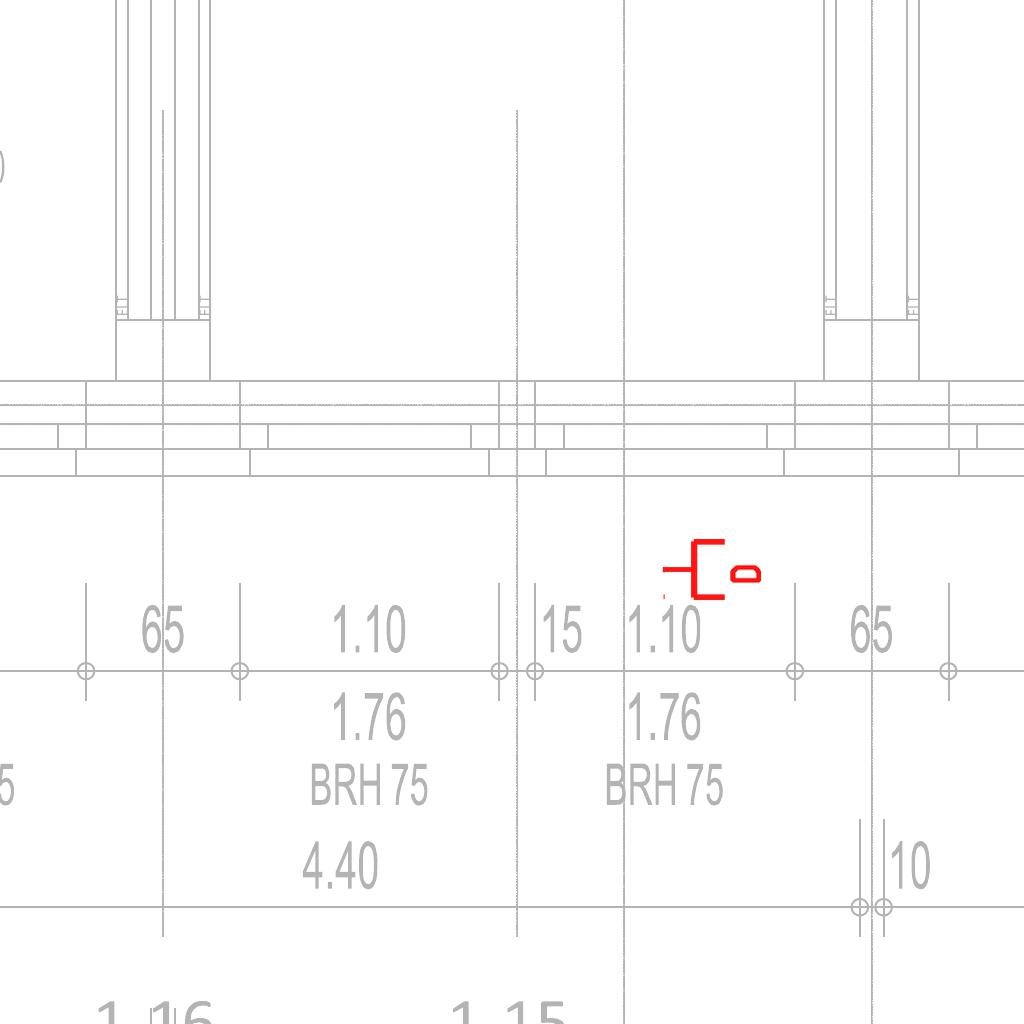Datenanschluss_einfach: (661, 535, 761, 604)
